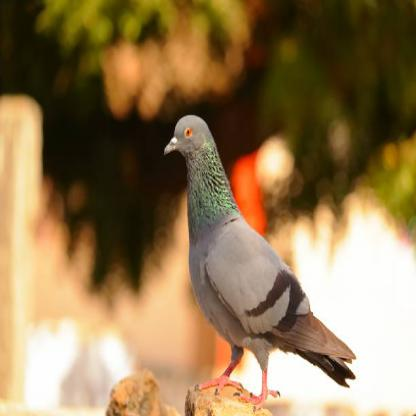Rock Pigeon: (161, 117, 357, 383)
